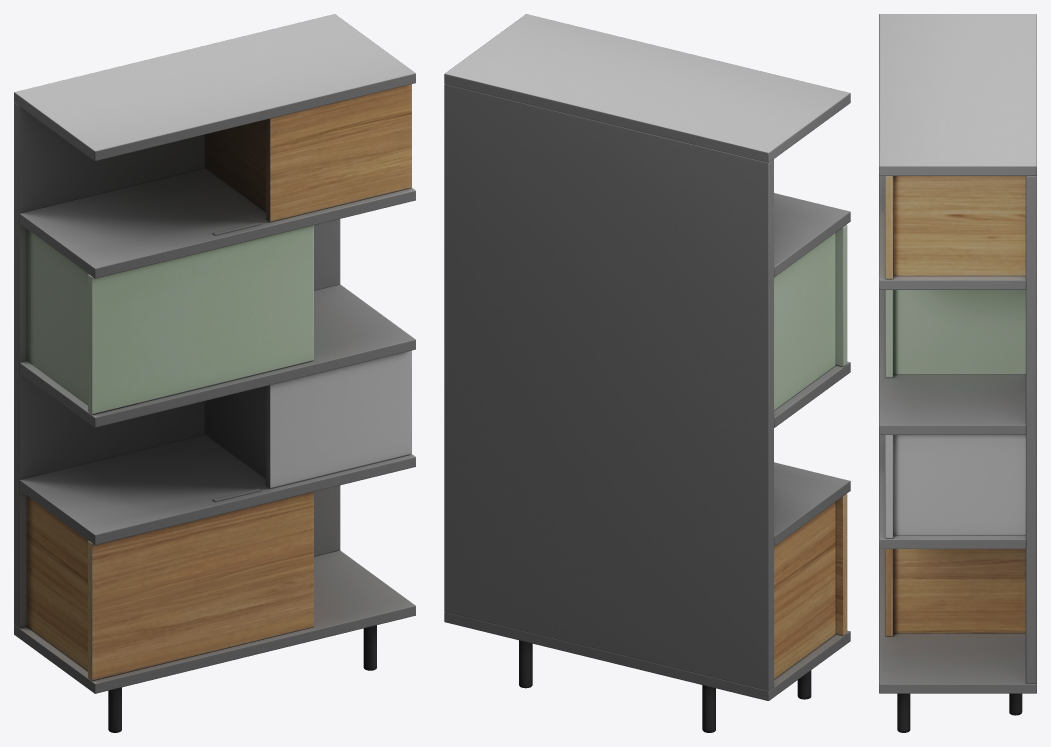
Rendered from Fowler.FBX.
3 views of the same model, side by side, from view 1: azimuth 30°, elevation 25°; view 2: azimuth 150°, elevation 25°; view 3: azimuth 270°, elevation 25° (orthographic). The views are drawn at different scales.
Parts seen in each view (by area): view 1: Fowler; view 2: Fowler; view 3: Fowler.
Part boxes in pixels (<box>): Fowler: <box>14,14,415,732</box>; Fowler: <box>444,14,850,732</box>; Fowler: <box>879,14,1036,732</box>.
Size of the model in its own units: 31.5 by 55.91 by 13.78.
1 material, 1 textured.
